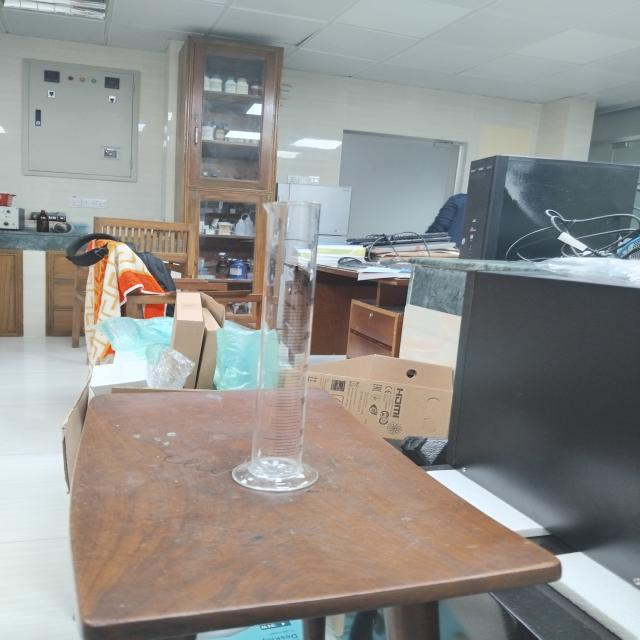Measuring_Cylinder: (211, 158, 363, 510)
